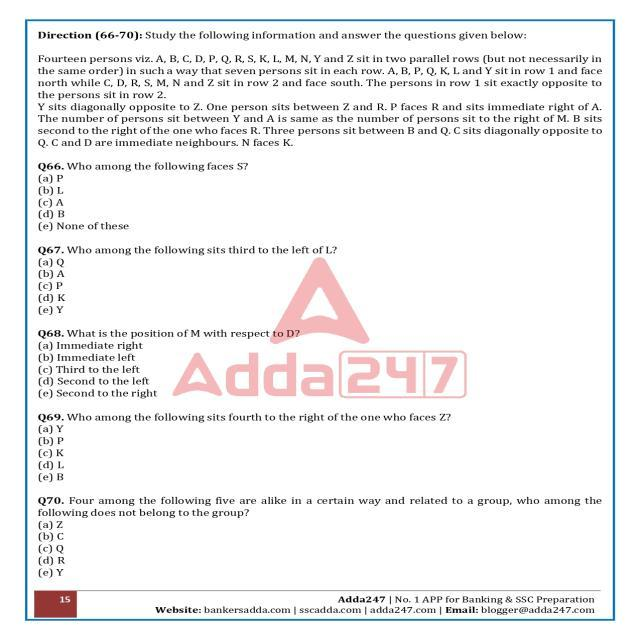Answer_Block: (32, 174, 608, 243), (34, 256, 608, 324), (34, 518, 608, 582), (34, 423, 608, 486), (34, 341, 608, 402)
Instruction: (34, 26, 608, 158)
Question_Answer_Block: (34, 490, 608, 582), (32, 160, 608, 242), (34, 242, 608, 324), (34, 408, 608, 487), (34, 328, 608, 402)
Question_Block: (34, 490, 608, 520), (34, 408, 608, 426), (34, 242, 608, 257), (32, 160, 608, 173), (34, 328, 608, 340)
Question_Paper_Area: (34, 24, 608, 584)
